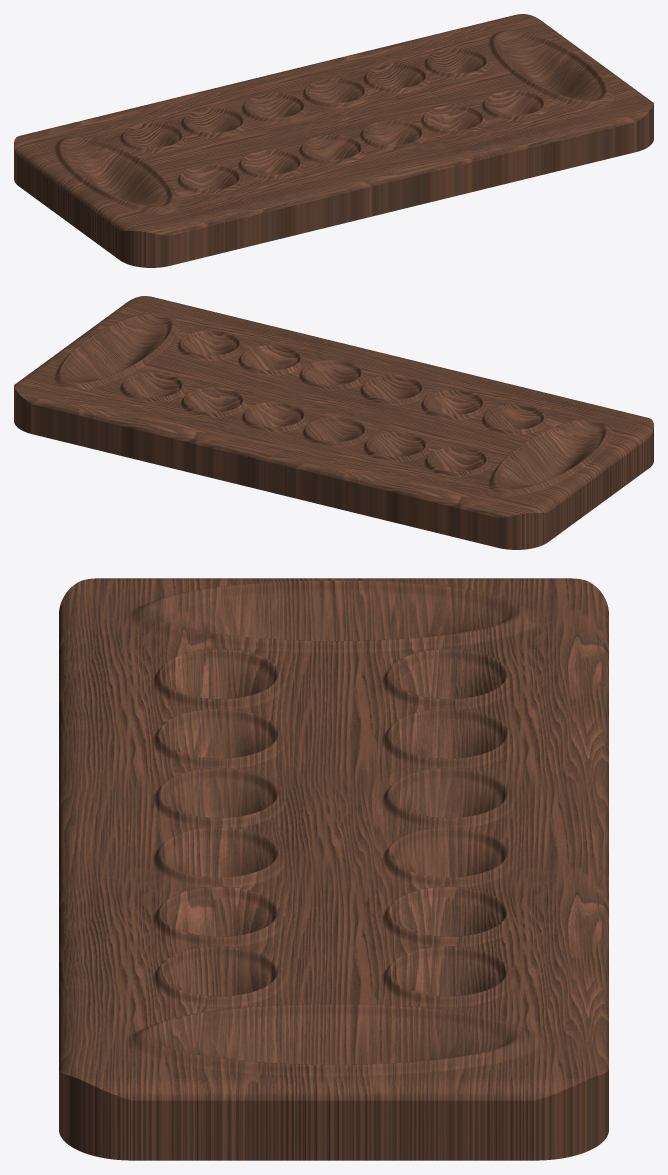
The model's file is board.glb.
The picture shows the model from 3 angles, top to bottom: view 1: azimuth 30°, elevation 25°; view 2: azimuth 150°, elevation 25°; view 3: azimuth 270°, elevation 25°; orthographic projection. The views are drawn at different scales.
Parts seen in each view (by area): view 1: KalahBoard; view 2: KalahBoard; view 3: KalahBoard.
Boxes of the visible parts, x1,y1,x2,y2 form: KalahBoard: [14, 14, 653, 267]; KalahBoard: [14, 296, 653, 549]; KalahBoard: [59, 578, 608, 1160].
Size of the model in its own units: 8 by 0.575 by 3.6.
Materials: 1 (1 with a texture image).
